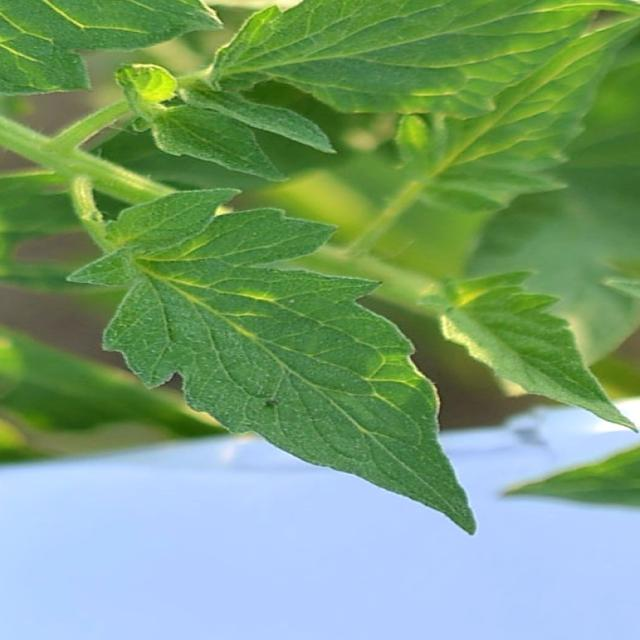healthy: (33, 184, 484, 536), (154, 0, 604, 140), (415, 258, 640, 440)
